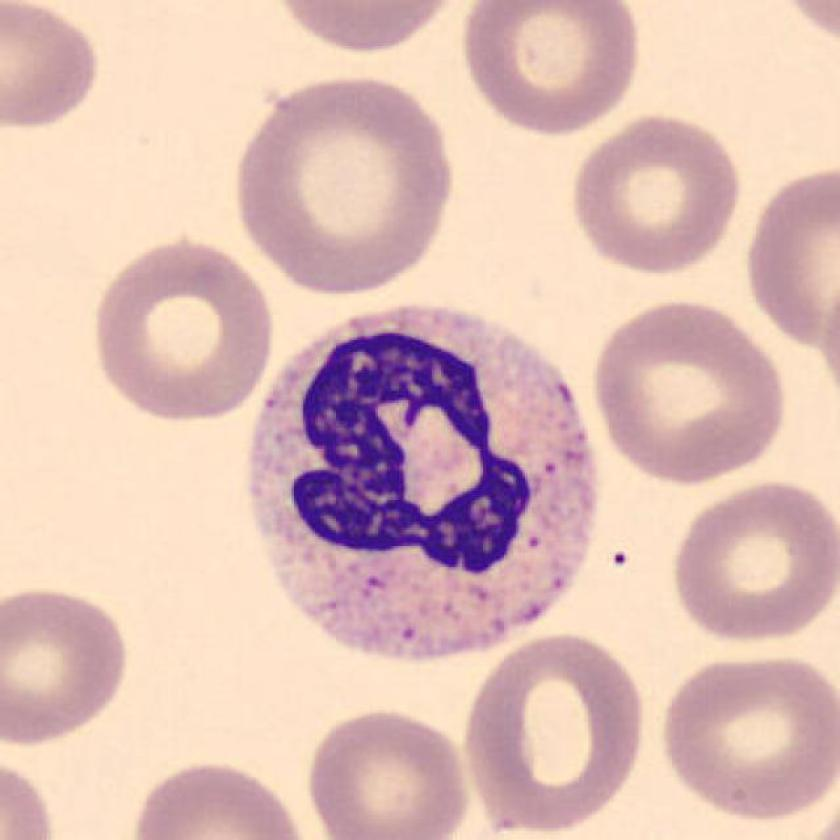neutrophil: (252, 310, 597, 658)
